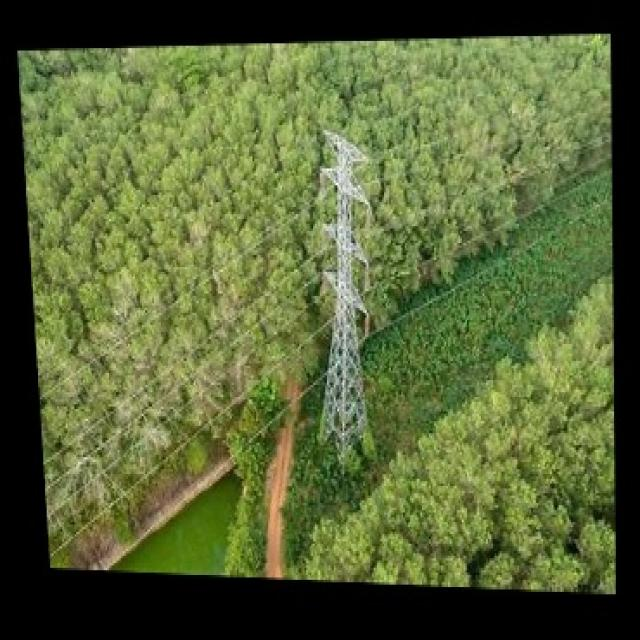utility poles: (299, 108, 407, 462)
